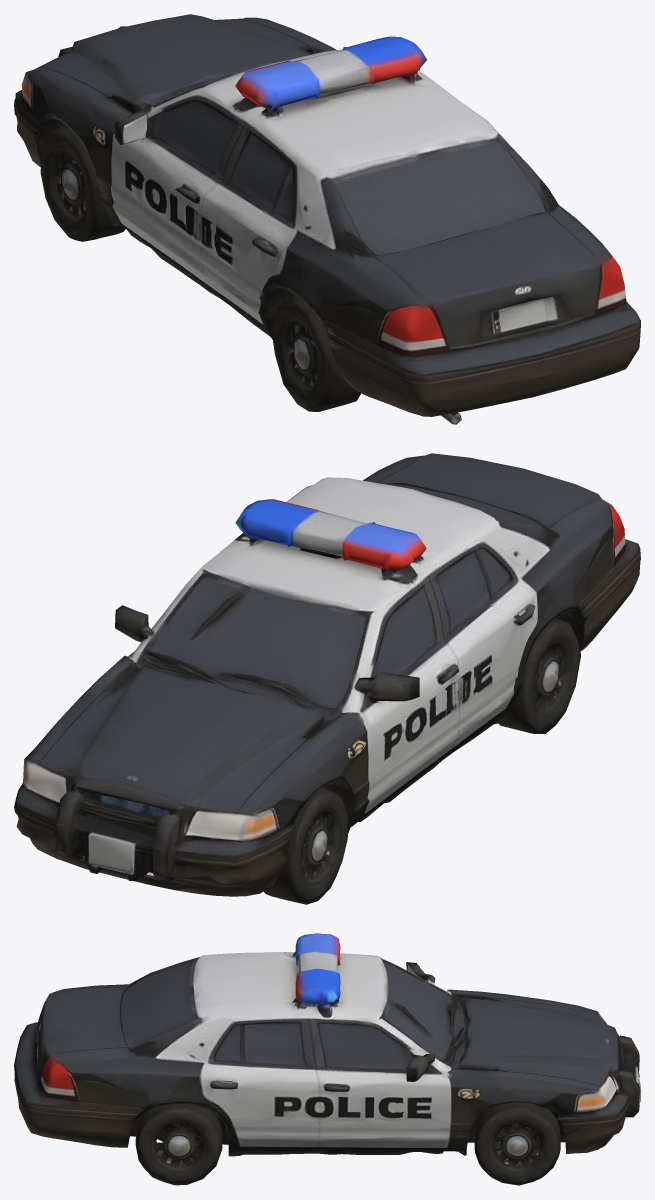
Rendered from police.glb.
The picture shows the model from 3 angles, top to bottom: view 1: azimuth 30°, elevation 25°; view 2: azimuth 150°, elevation 25°; view 3: azimuth 270°, elevation 25°; orthographic projection. The views are drawn at different scales.
Visible parts, largest first — view 1: node_81c8eee4-9450-4145-b602-0b720a37095d; view 2: node_81c8eee4-9450-4145-b602-0b720a37095d; view 3: node_81c8eee4-9450-4145-b602-0b720a37095d.
Part boxes in pixels (x1,y1,x2,y2): node_81c8eee4-9450-4145-b602-0b720a37095d: (14, 14, 640, 424); node_81c8eee4-9450-4145-b602-0b720a37095d: (14, 453, 640, 904); node_81c8eee4-9450-4145-b602-0b720a37095d: (14, 933, 640, 1185).
Bounding box in the file's own units: 0.4016 × 0.3204 × 1.
1 material, 1 textured.
